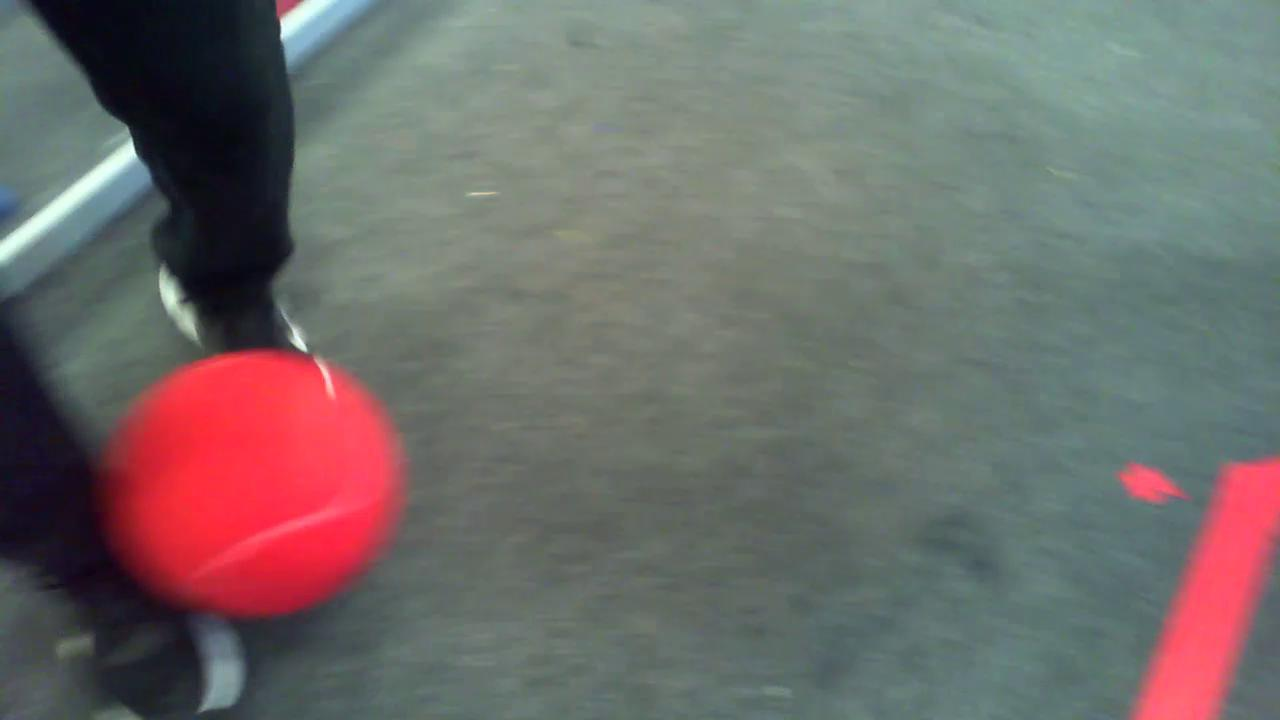Red_Ball: (82, 349, 412, 623)
